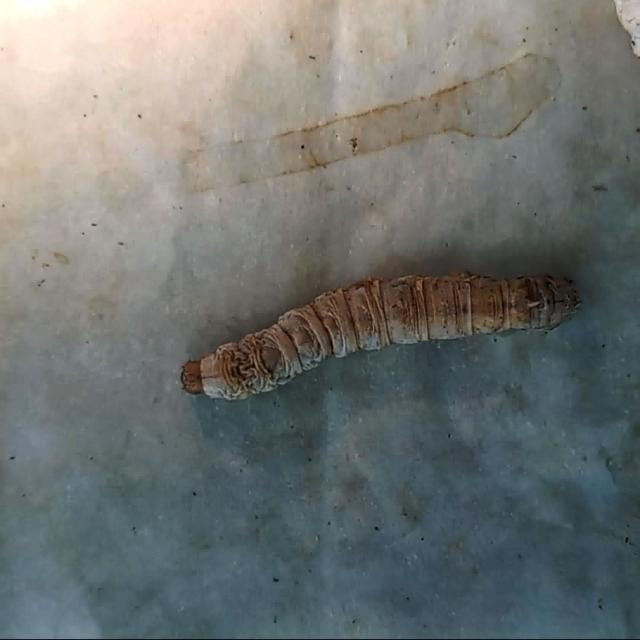Grasserie: (152, 215, 606, 426)
